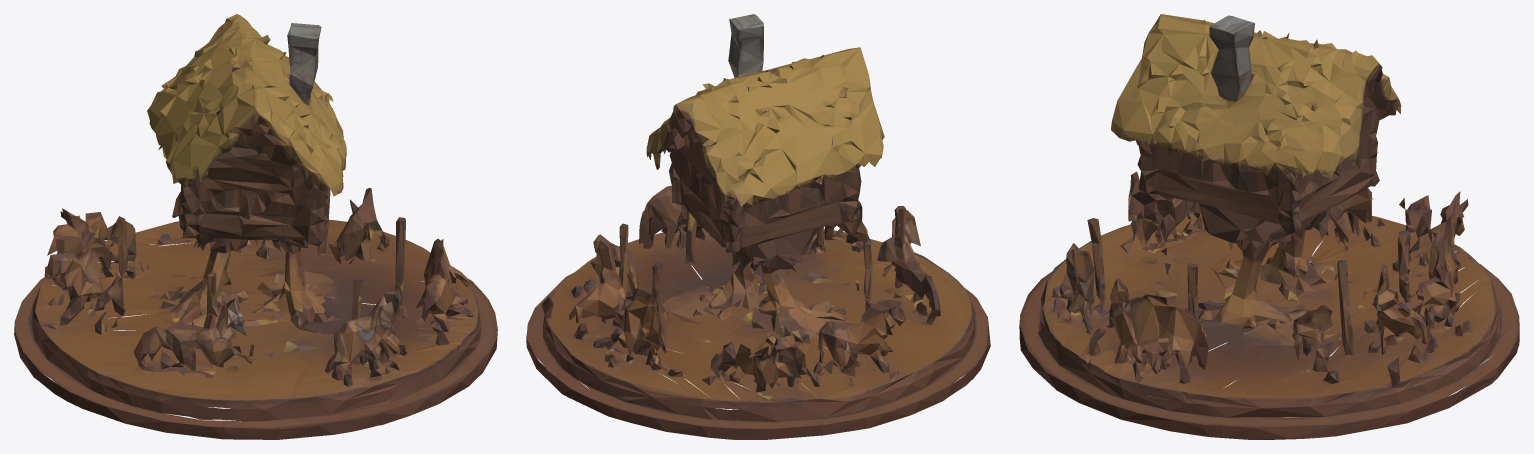
File: carousel.glb
3 views of the same model, side by side, from view 1: azimuth 30°, elevation 25°; view 2: azimuth 150°, elevation 25°; view 3: azimuth 270°, elevation 25° (orthographic). The views are drawn at different scales.
Visible parts, largest first — view 1: geometry_0; view 2: geometry_0; view 3: geometry_0.
Boxes of the visible parts, x1,y1,x2,y2 form: geometry_0: [14, 14, 497, 439]; geometry_0: [526, 14, 990, 439]; geometry_0: [1019, 14, 1519, 439].
Size of the model in its own units: 3.2 by 2.3 by 3.2.
1 material, 1 textured.
